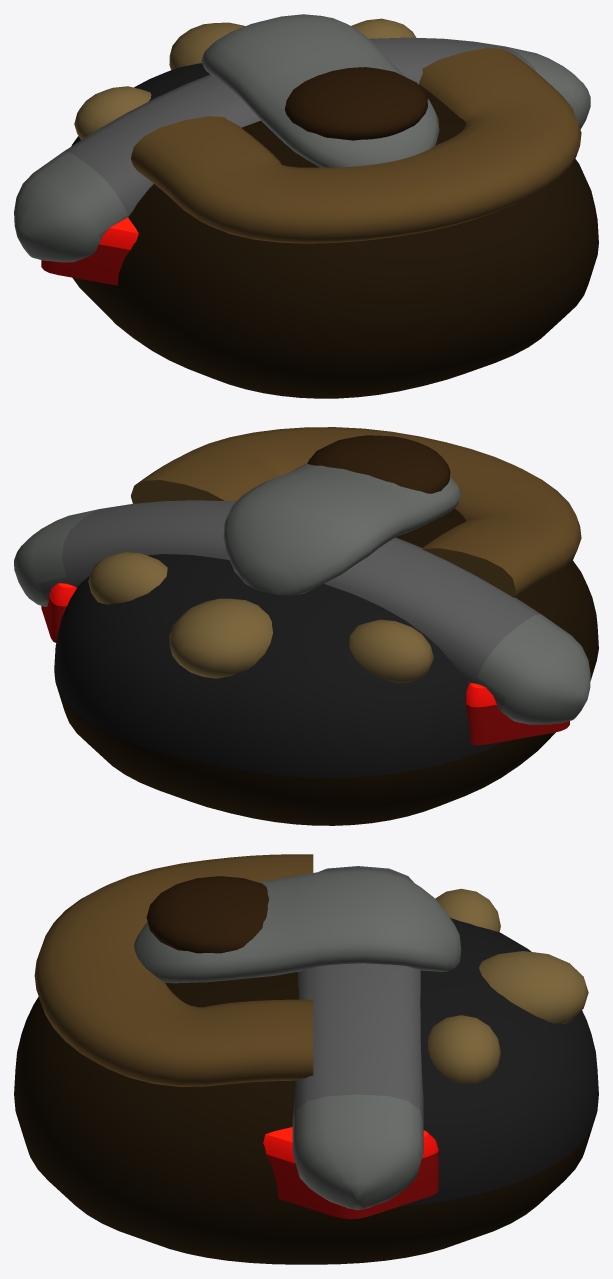
Rendered from pod_163.glb.
3 views of the same model, one above another, from view 1: azimuth 30°, elevation 25°; view 2: azimuth 150°, elevation 25°; view 3: azimuth 270°, elevation 25° (orthographic). The views are drawn at different scales.
Parts seen in each view (by area): view 1: shell, horseshoe, bar, visor, lens, vane-1, knob1, knob0, knob2; view 2: shell, bar, horseshoe, visor, knob0, lens, knob1, knob2, vane-1, vane1; view 3: shell, horseshoe, bar, visor, lens, knob0, vane1, knob2, knob1.
Boxes of the visible parts, x1,y1,x2,y2 form: shell: [71, 63, 598, 398]; horseshoe: [130, 48, 581, 243]; bar: [14, 37, 590, 262]; visor: [201, 14, 439, 167]; lens: [284, 67, 427, 140]; vane-1: [41, 217, 138, 285]; knob1: [74, 86, 151, 139]; knob0: [169, 22, 244, 70]; knob2: [351, 18, 416, 38]; shell: [54, 508, 598, 825]; bar: [14, 500, 590, 724]; horseshoe: [131, 427, 581, 597]; visor: [223, 463, 461, 595]; knob0: [169, 598, 272, 678]; lens: [307, 435, 450, 493]; knob1: [349, 619, 433, 682]; knob2: [88, 552, 167, 604]; vane-1: [466, 683, 569, 745]; vane1: [41, 583, 76, 642]; shell: [14, 917, 598, 1264]; horseshoe: [34, 854, 313, 1086]; bar: [292, 866, 423, 1209]; visor: [134, 869, 461, 983]; lens: [146, 876, 268, 953]; knob0: [479, 951, 588, 1024]; vane1: [263, 1127, 438, 1219]; knob2: [427, 1015, 500, 1084]; knob1: [435, 888, 500, 931].
Bounding box in the file's own units: 20.35 × 10.42 × 17.
